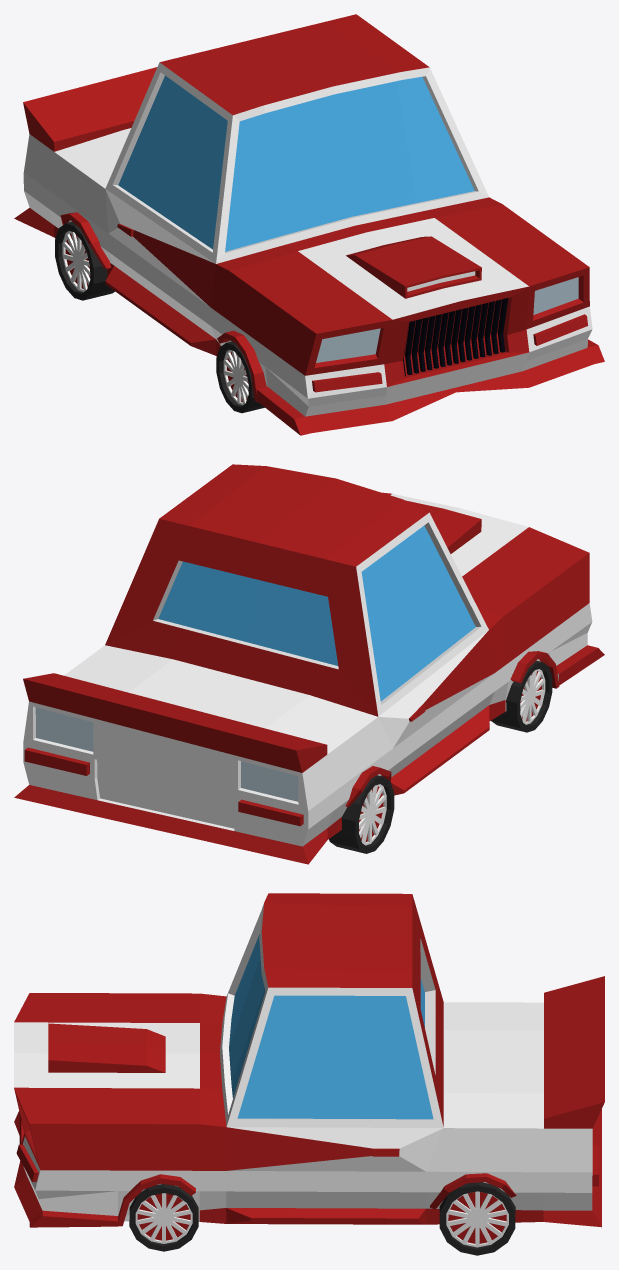
Rendered from car.obj.
3 views of the same model, one above another, from view 1: azimuth 30°, elevation 25°; view 2: azimuth 150°, elevation 25°; view 3: azimuth 270°, elevation 25° (orthographic).
Parts seen in each view (by area): view 1: body_ID56, lattice.1_ID29, wheel.1_ID84, headlight_ID66, wheel1.1_ID93, front_fender_ID47, rear_fender_ID38; view 2: body_ID56, backlight_ID75, wheel.1_ID84, wheel1.1_ID93, front_fender_ID47, rear_fender_ID38; view 3: body_ID56, wheel.1_ID84, wheel1.1_ID93, front_fender_ID47, rear_fender_ID38.
Part boxes in pixels (<box>): body_ID56: <box>14,14,604,435</box>; lattice.1_ID29: <box>403,298,508,376</box>; wheel.1_ID84: <box>55,221,114,300</box>; headlight_ID66: <box>316,277,578,362</box>; wheel1.1_ID93: <box>216,341,264,413</box>; front_fender_ID47: <box>217,330,266,402</box>; rear_fender_ID38: <box>60,212,111,268</box>; body_ID56: <box>14,464,604,864</box>; backlight_ID75: <box>35,707,298,801</box>; wheel.1_ID84: <box>329,775,394,853</box>; wheel1.1_ID93: <box>491,660,552,732</box>; front_fender_ID47: <box>510,651,559,688</box>; rear_fender_ID38: <box>345,766,391,806</box>; body_ID56: <box>14,893,604,1227</box>; wheel.1_ID84: <box>439,1182,515,1255</box>; wheel1.1_ID93: <box>129,1184,198,1251</box>; front_fender_ID47: <box>118,1174,195,1226</box>; rear_fender_ID38: <box>430,1173,516,1209</box>.
Size of the model in its own units: 1.38 by 1.11 by 2.36.
